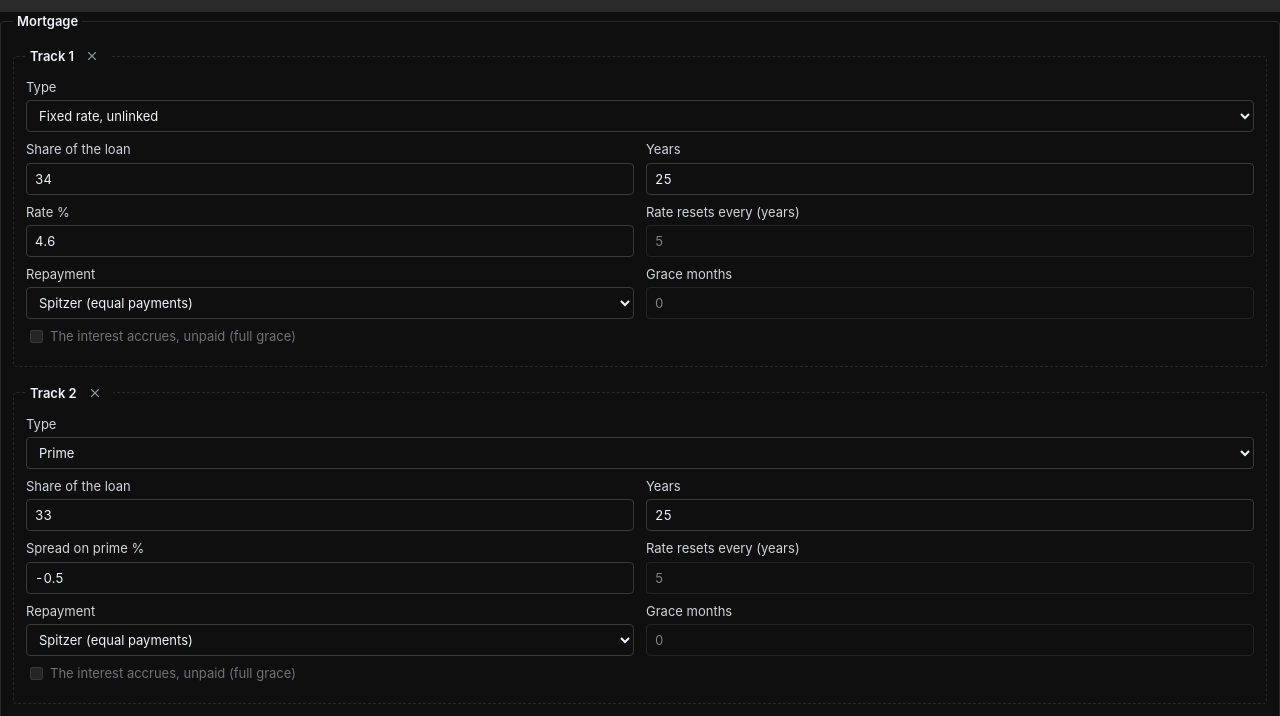
Test: PlannerHomeTracks › relabels the rate and resets it when the type changes
The width and height of the screenshot is (1280, 716).
Expected: the number field named "Track 1 rate %" holds "4.6", [26,225,634,257]
Select "Prime" in the dropdown named "Track 1 type" at (640, 116), box [26,100,1254,132]
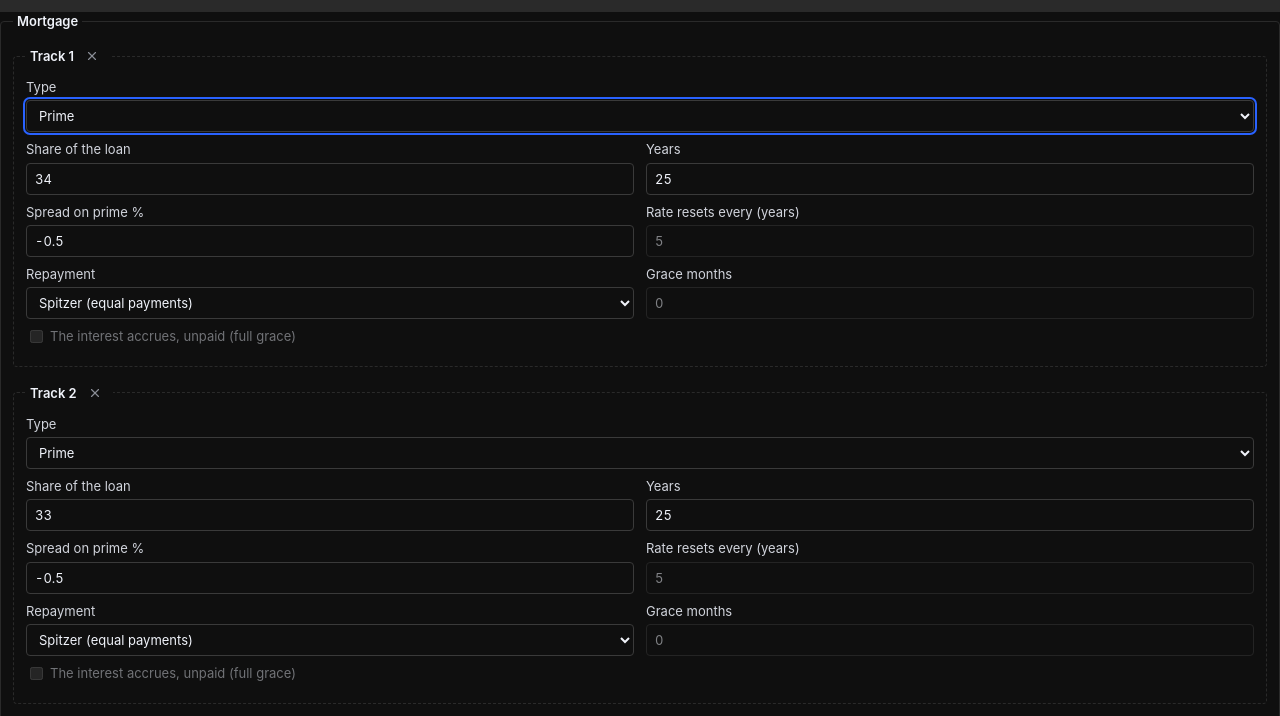
Result: the number field named "Track 1 spread on prime %" holds "-0.5" at [26,225,634,257]
Select "Variable rate, unlinked" in the dropdown named "Track 1 type" at (640, 116), box [26,100,1254,132]
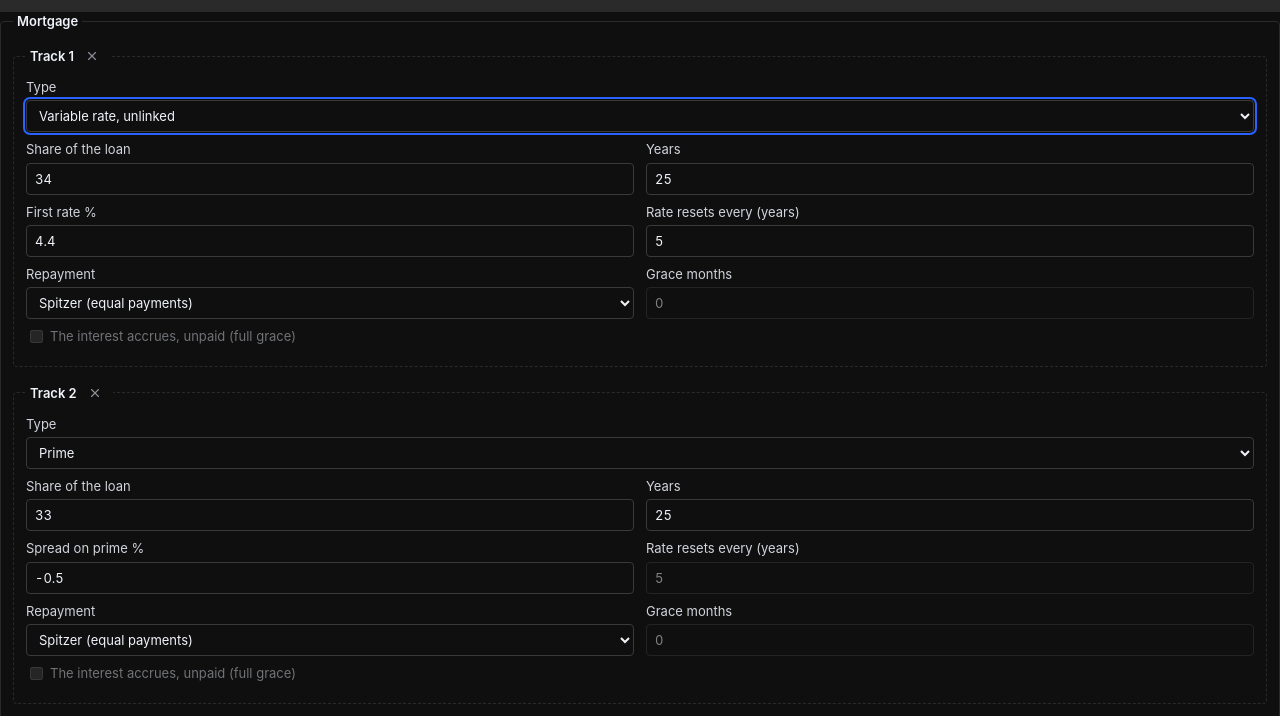
Result: the number field named "Track 1 first rate %" holds "4.4" at [26,225,634,257]
